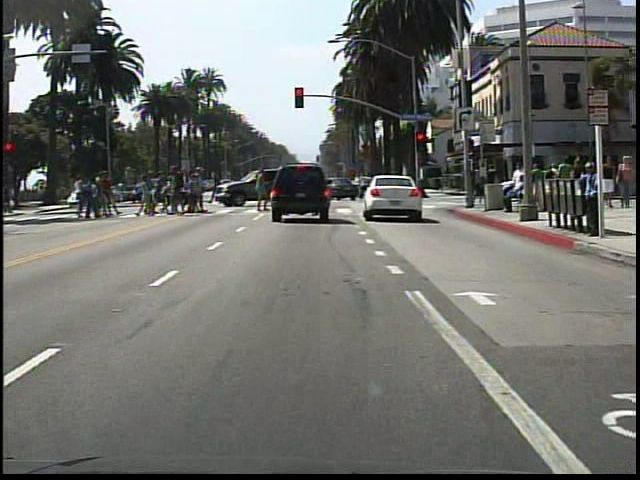person: (580, 156, 600, 236), (617, 151, 635, 212), (602, 153, 619, 208)
